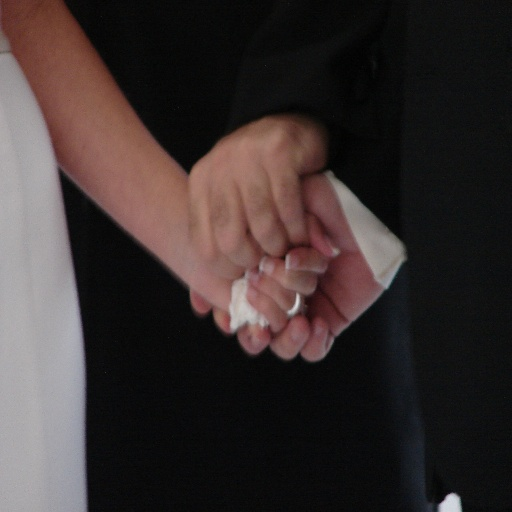hand: (188, 174, 390, 364), (187, 111, 326, 268), (182, 212, 340, 336)
